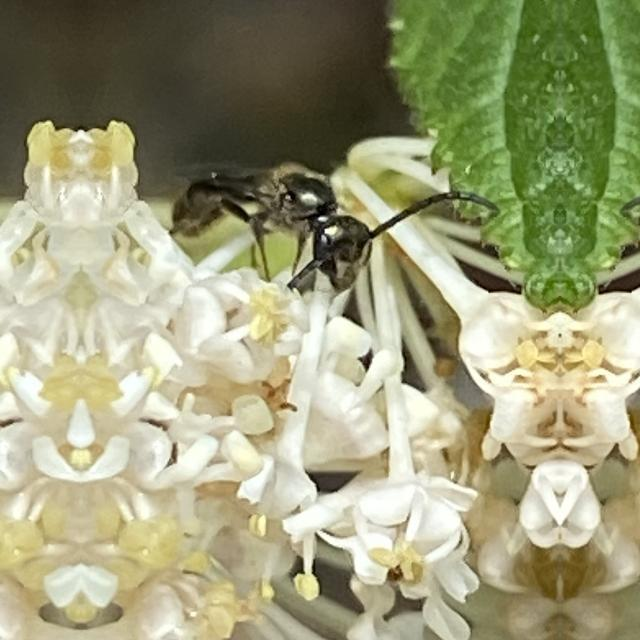Tapinoma: (158, 138, 388, 322)
